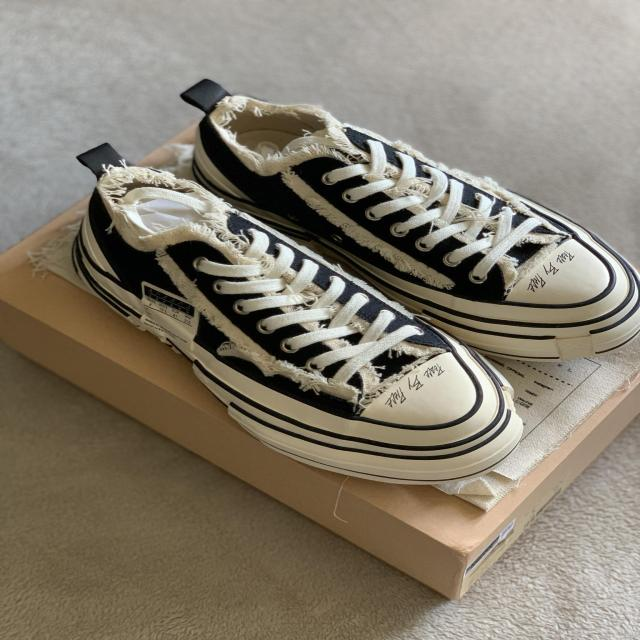shoe: (75, 142, 525, 488), (179, 74, 640, 359)
